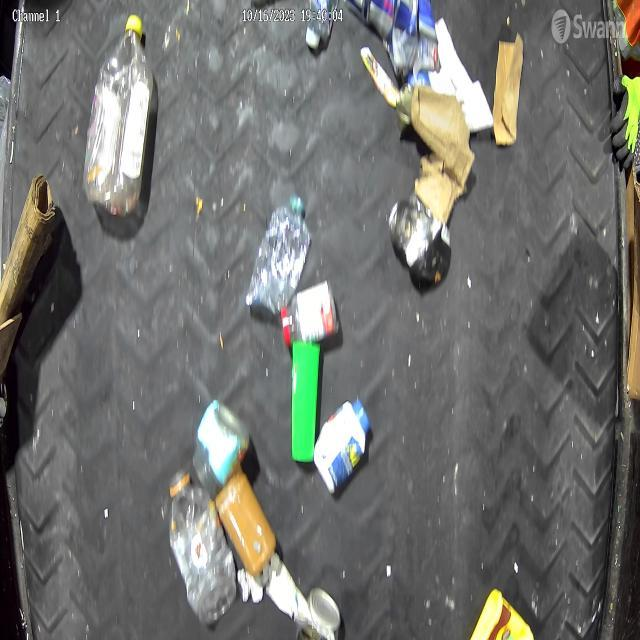can: (296, 584, 343, 640)
plastic_bottle: (83, 12, 153, 215), (167, 466, 238, 628), (245, 192, 311, 320)
